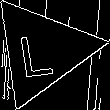L_N: (22, 23, 62, 78)
